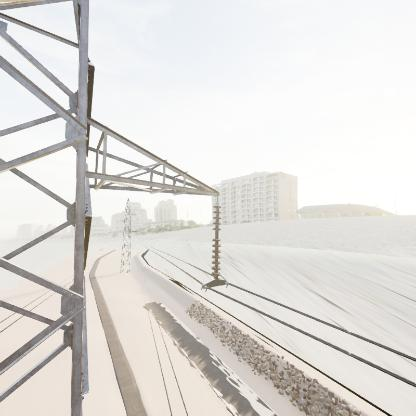insulator: (209, 203, 225, 284)
